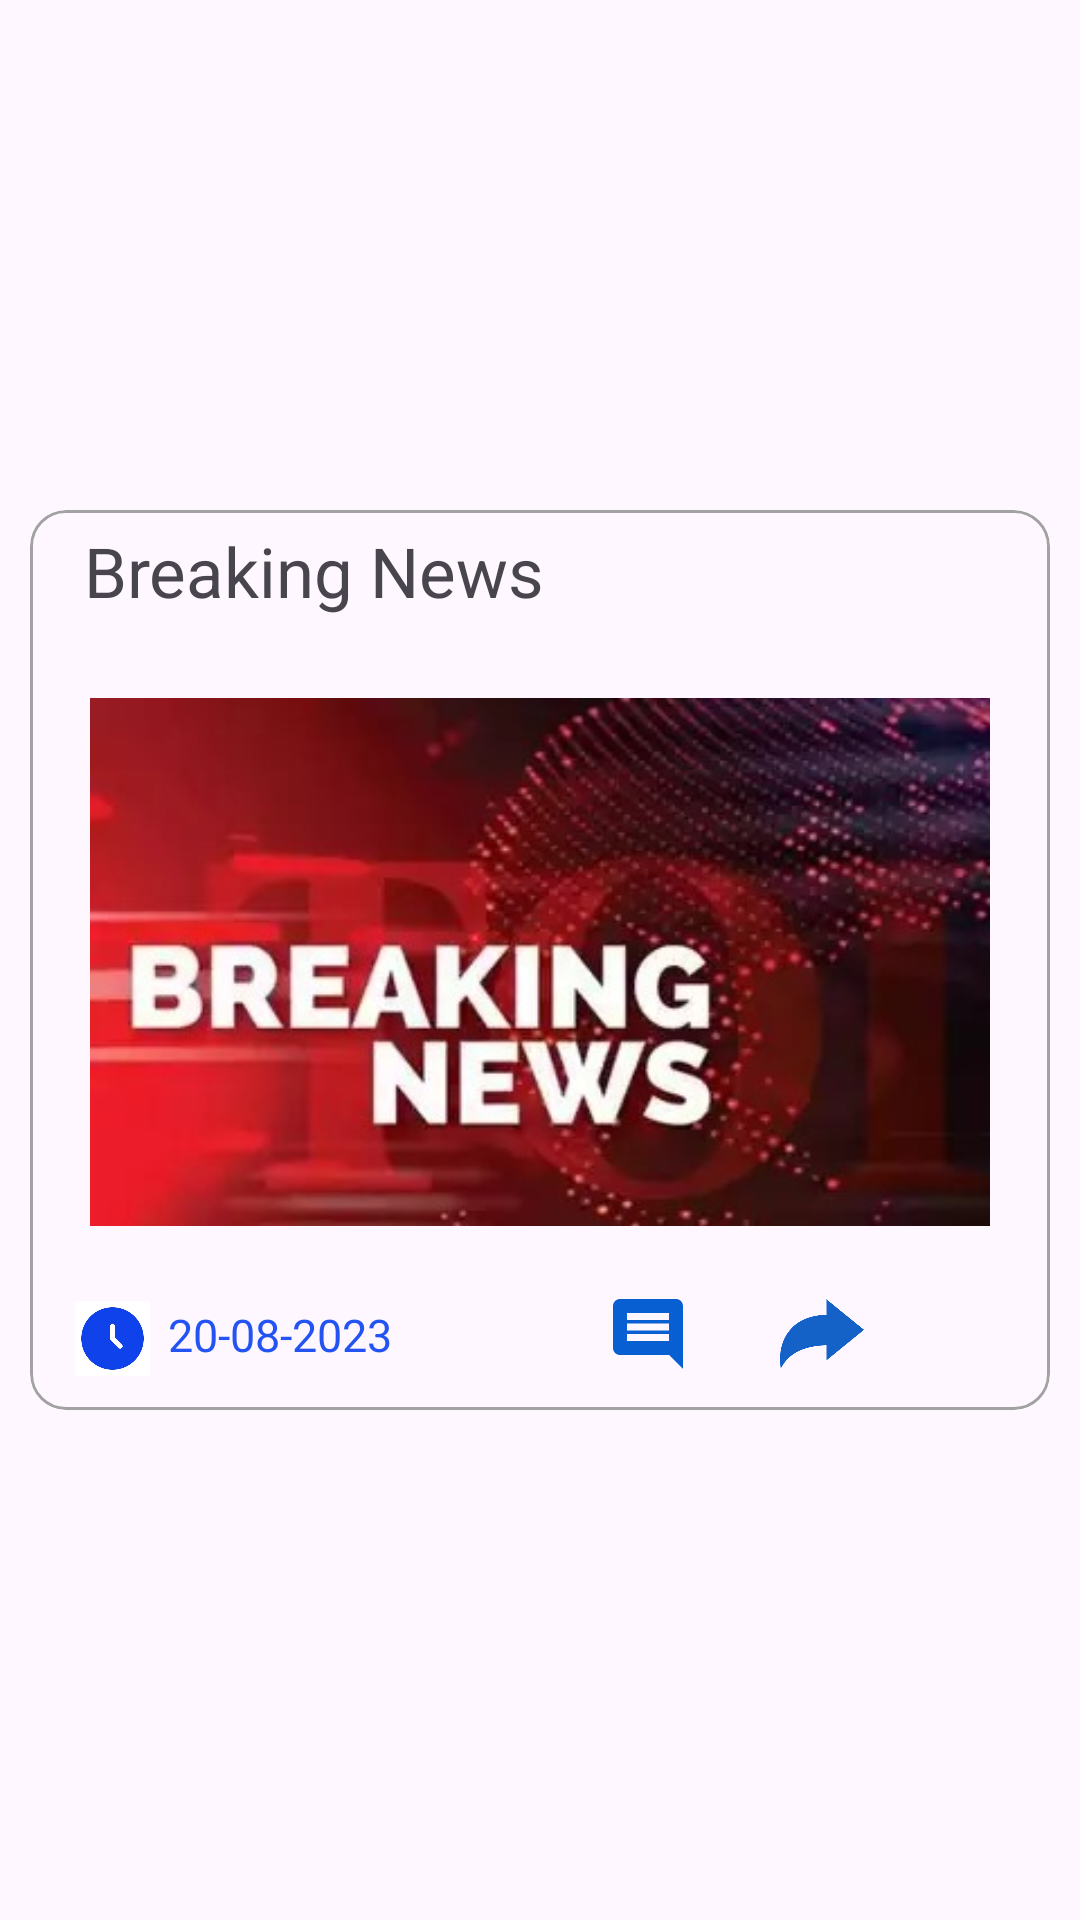

Screen size 1080w x 1920h. Icon name, then its center in pixels as [x,y]:
clocl: [112,1338]
comment: [648,1334]
share: [822,1333]
